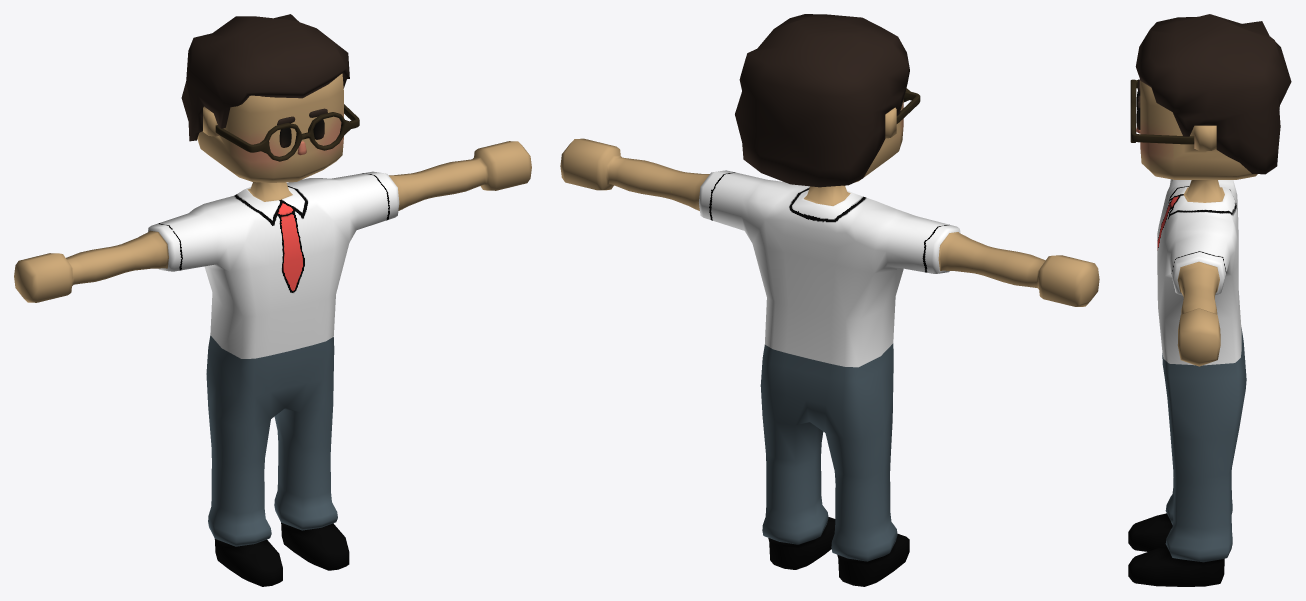
The model's file is Visionary_Model.fbx.
3 renders of one model, left to right at view 1: azimuth 30°, elevation 25°; view 2: azimuth 150°, elevation 25°; view 3: azimuth 270°, elevation 25°, orthographic. The views are drawn at different scales.
Visible parts, largest first — view 1: Visionary_Model; view 2: Visionary_Model; view 3: Visionary_Model.
Part boxes in pixels (left/top/right/bottom): Visionary_Model: left=14, top=14, right=531, bottom=586; Visionary_Model: left=560, top=14, right=1099, bottom=586; Visionary_Model: left=1128, top=14, right=1291, bottom=586.
Size of the model in its own units: 189 by 189 by 51.8.
